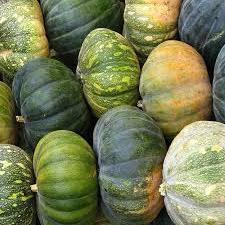peas: (0, 0, 224, 224)
pumpkin: (92, 104, 167, 224), (11, 56, 91, 149), (138, 39, 212, 135), (159, 120, 224, 224), (31, 129, 98, 224), (75, 27, 140, 118), (40, 0, 124, 56), (0, 0, 49, 80), (122, 0, 182, 56), (0, 143, 36, 224), (177, 0, 224, 50), (0, 75, 18, 156), (211, 27, 224, 135)
